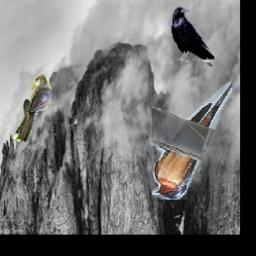Crow: (171, 6, 214, 66)
Cuckoo: (12, 74, 52, 142)
Swallow: (153, 83, 233, 200)
